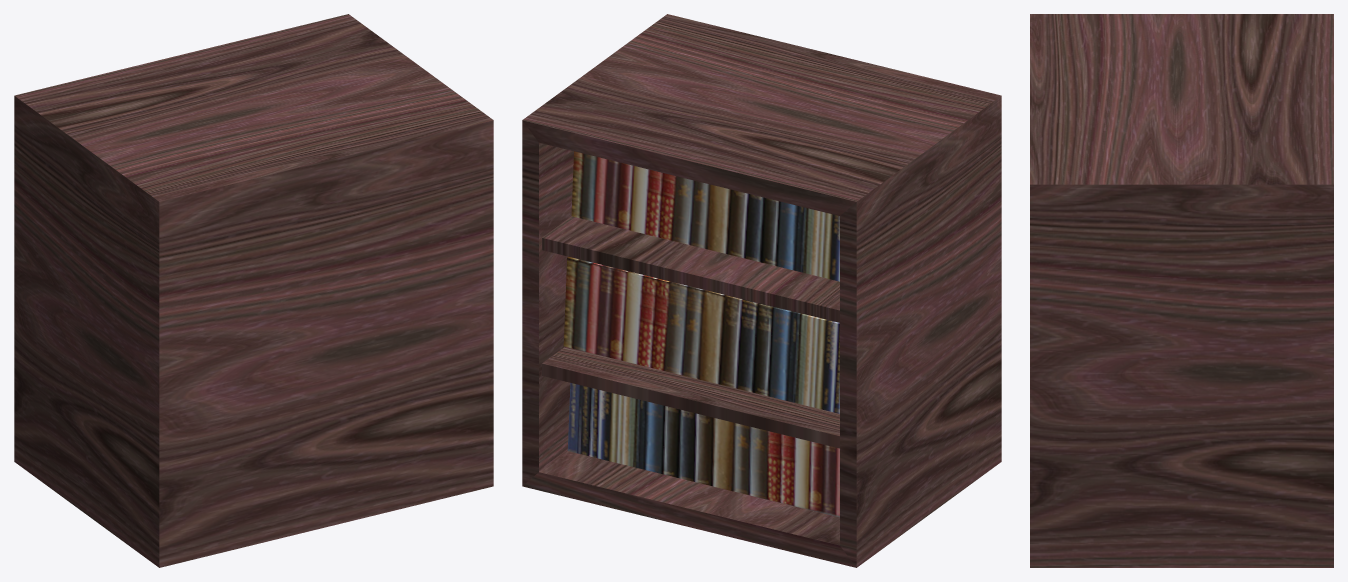
File: Filled_bookshelf.fbx
3 views of the same model, side by side, from view 1: azimuth 30°, elevation 25°; view 2: azimuth 150°, elevation 25°; view 3: azimuth 270°, elevation 25° (orthographic). The views are drawn at different scales.
Parts seen in each view (by area): view 1: Filled_bookshelf; view 2: Filled_bookshelf; view 3: Filled_bookshelf.
Part boxes in pixels (x1=…): Filled_bookshelf: x1=14, y1=14, x2=493, y2=567; Filled_bookshelf: x1=522, y1=14, x2=1001, y2=567; Filled_bookshelf: x1=1030, y1=14, x2=1333, y2=567.
Bounding box in the file's own units: 0.3884 × 0.4063 × 0.2921.
Materials: 1 (1 with a texture image).
